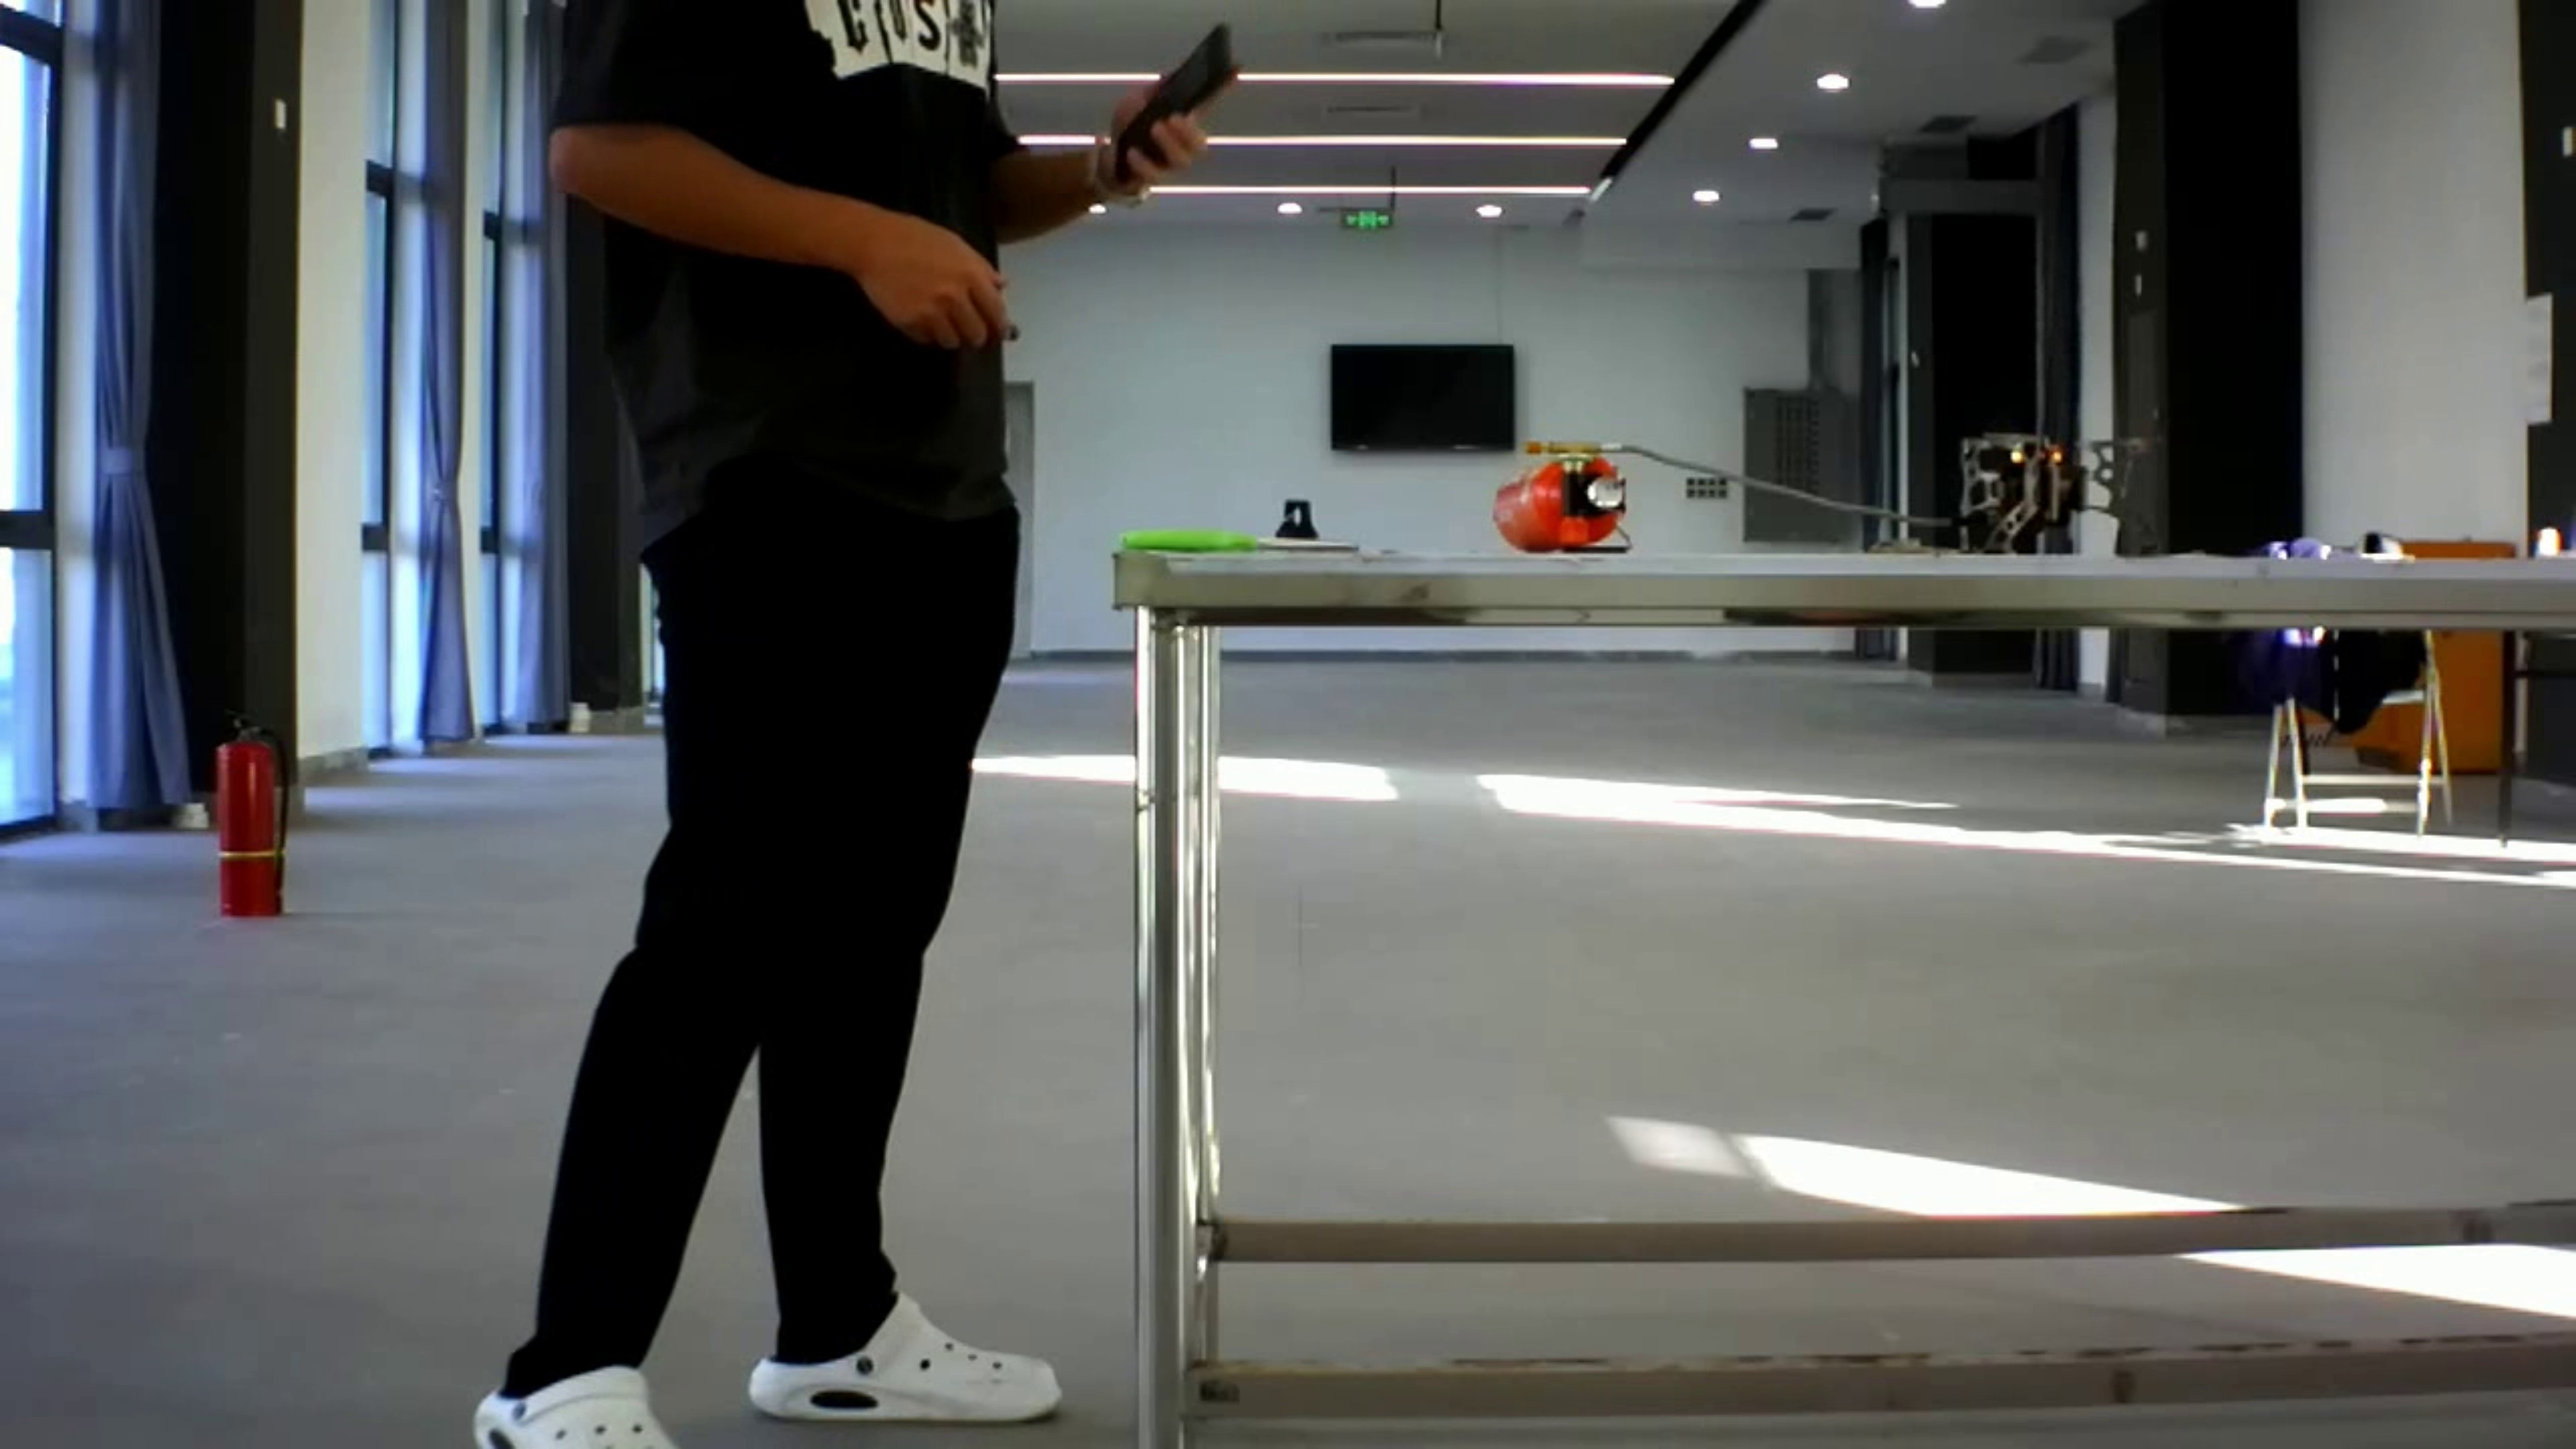Fire: (2001, 412, 2075, 481)
